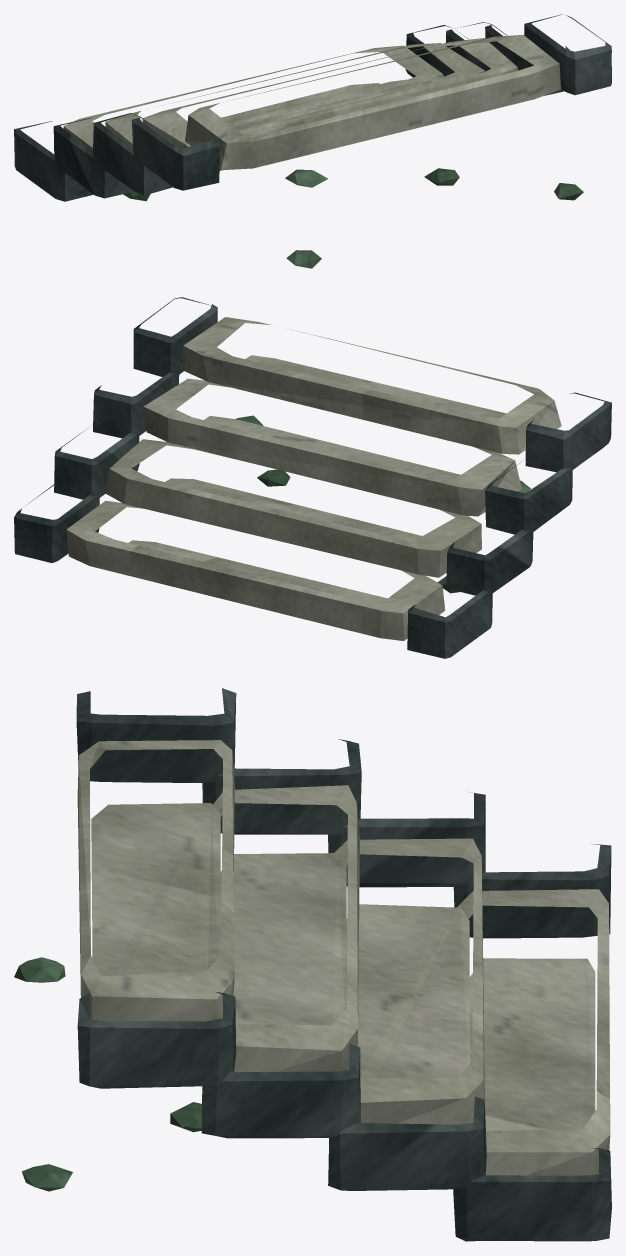
The model's file is 0362_stairs_12.glb.
3 renders of one model, top to bottom at view 1: azimuth 30°, elevation 25°; view 2: azimuth 150°, elevation 25°; view 3: azimuth 270°, elevation 25°, orthographic. The views are drawn at different scales.
Parts seen in each view (by area): view 1: stone_light, stone_dark, moss; view 2: stone_light, stone_dark, moss; view 3: stone_light, stone_dark, moss.
Part boxes in pixels (left/top/right/bottom): stone_light: left=63, top=35, right=560, bottom=170; stone_dark: left=14, top=14, right=611, bottom=201; moss: left=123, top=168, right=583, bottom=268; stone_light: left=66, top=317, right=561, bottom=640; stone_dark: left=14, top=297, right=611, bottom=658; moss: left=236, top=415, right=530, bottom=593; stone_light: left=77, top=740, right=610, bottom=1175; stone_dark: left=76, top=688, right=611, bottom=1241; moss: left=14, top=957, right=201, bottom=1191.
Bounding box in the file's own units: 2.81 × 0.8712 × 2.1.
3 materials, 3 textured.
